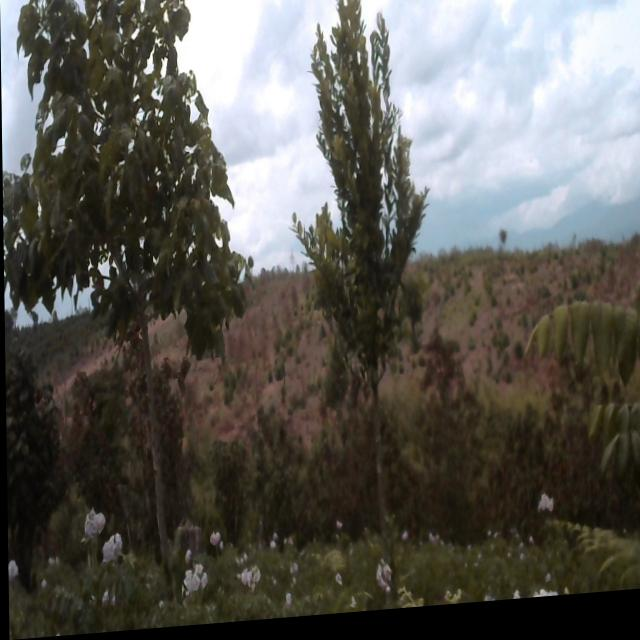Vitex keniensis: (0, 0, 250, 560)
